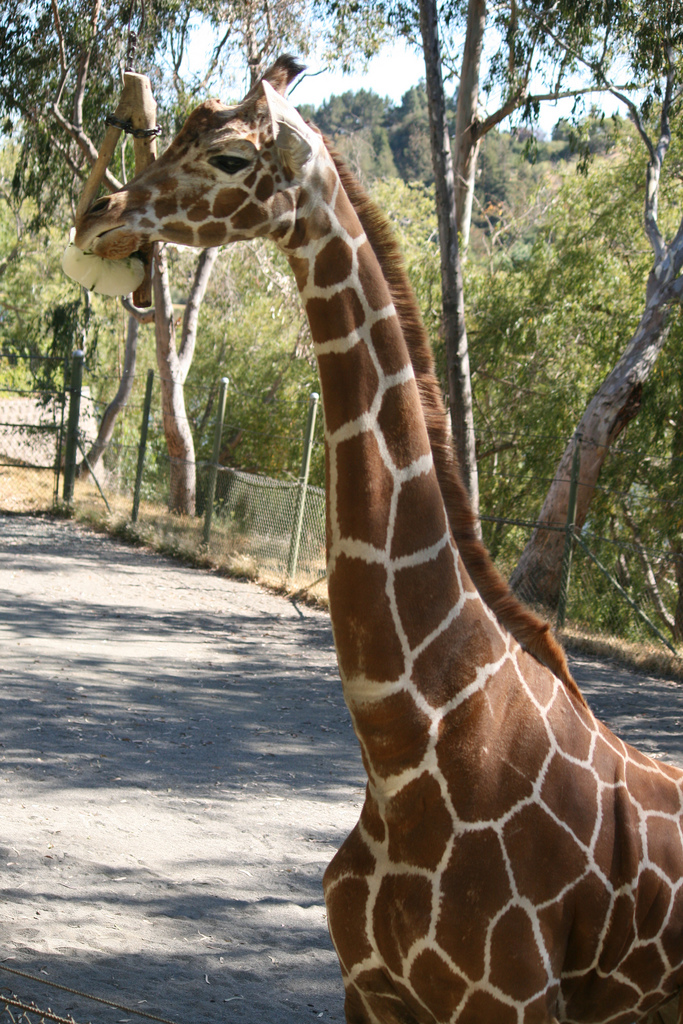giraffe: (107, 64, 663, 988)
